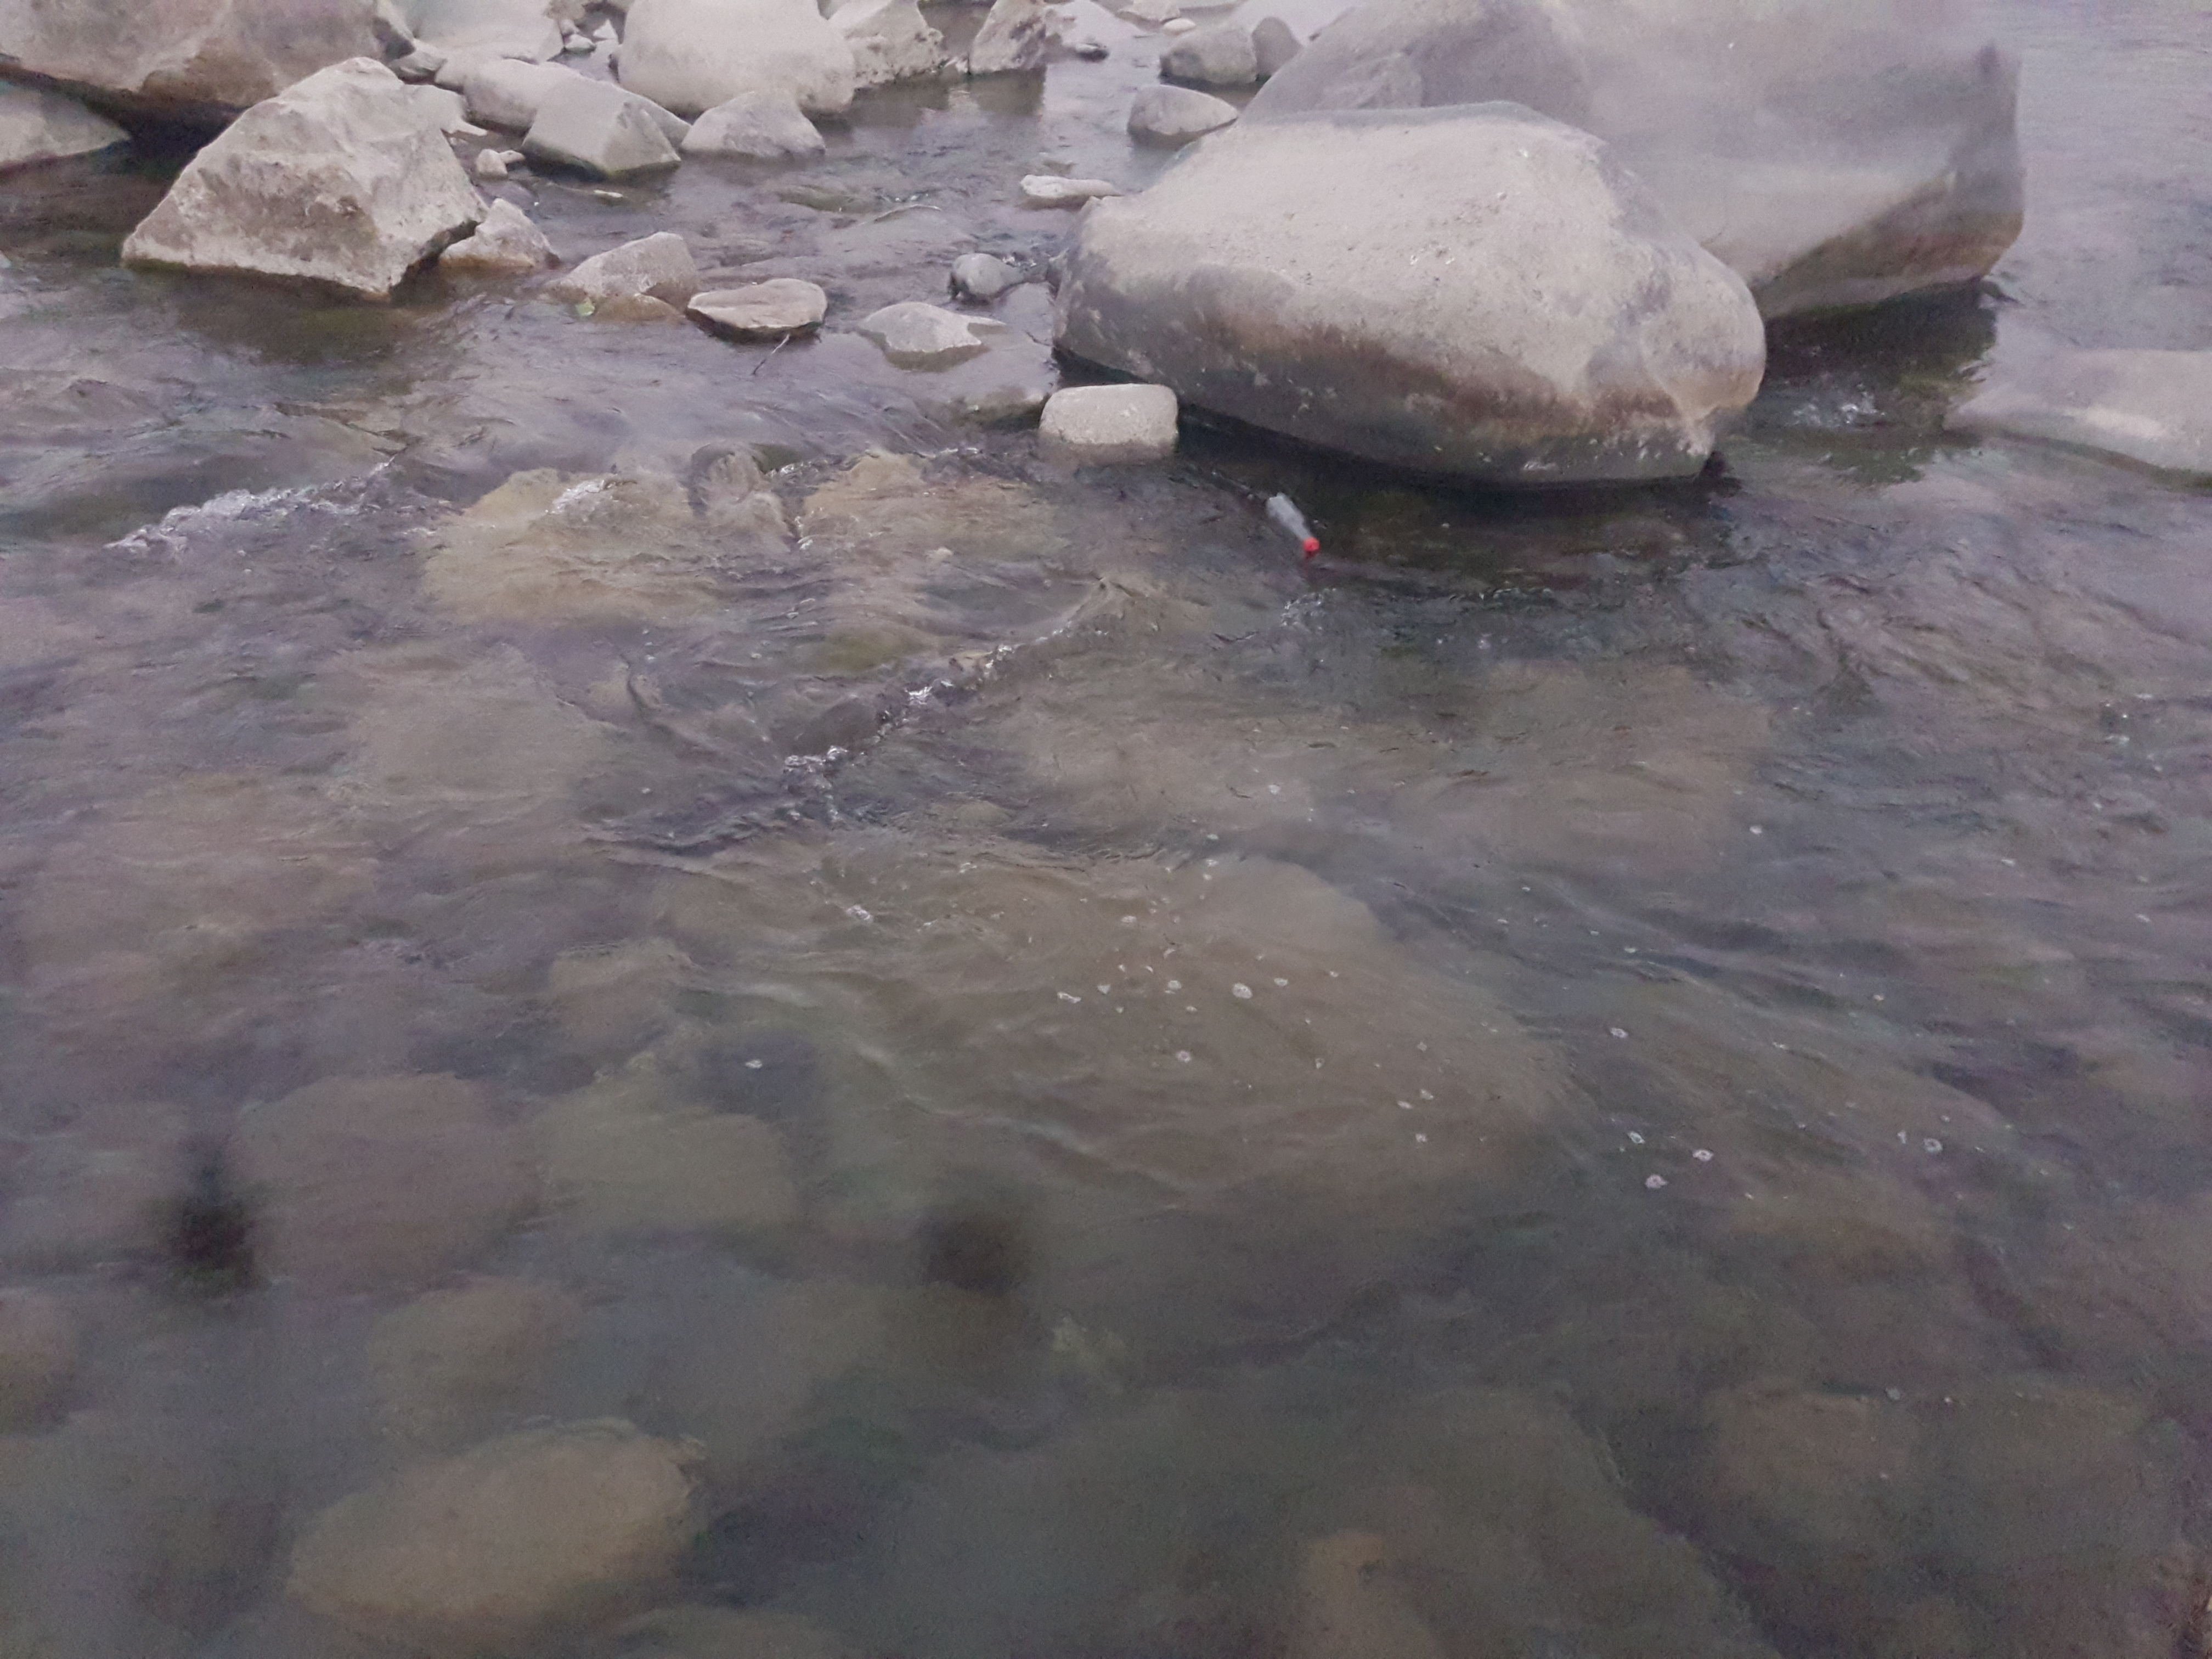Plastic Bottle: (1266, 491, 1320, 552)
